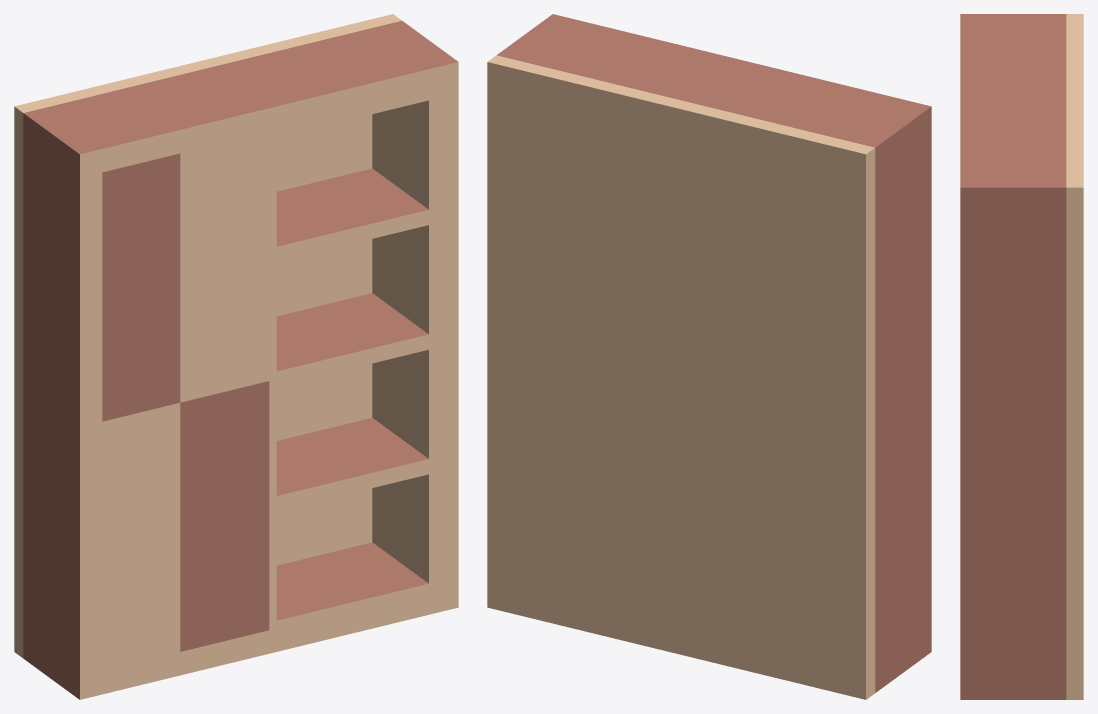
The model's file is Shelves .fbx.
The picture shows the model from 3 angles, left to right: view 1: azimuth 30°, elevation 25°; view 2: azimuth 150°, elevation 25°; view 3: azimuth 270°, elevation 25°; orthographic projection. The views are drawn at different scales.
Visible parts, largest first — view 1: Shelves 2; view 2: Shelves 2; view 3: Shelves 2.
Boxes of the visible parts, x1,y1,x2,y2 form: Shelves 2: (14,14,458,699); Shelves 2: (487,14,931,699); Shelves 2: (960,14,1083,699).
Size of the model in its own units: 112 by 154 by 33.47.
